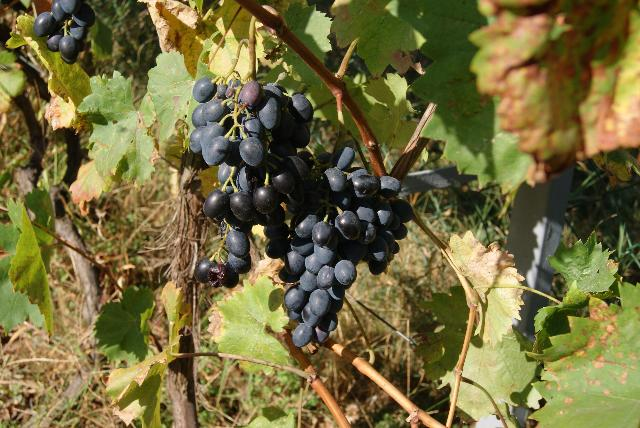grapes: (265, 146, 411, 348), (190, 78, 312, 286), (34, 0, 95, 65)
